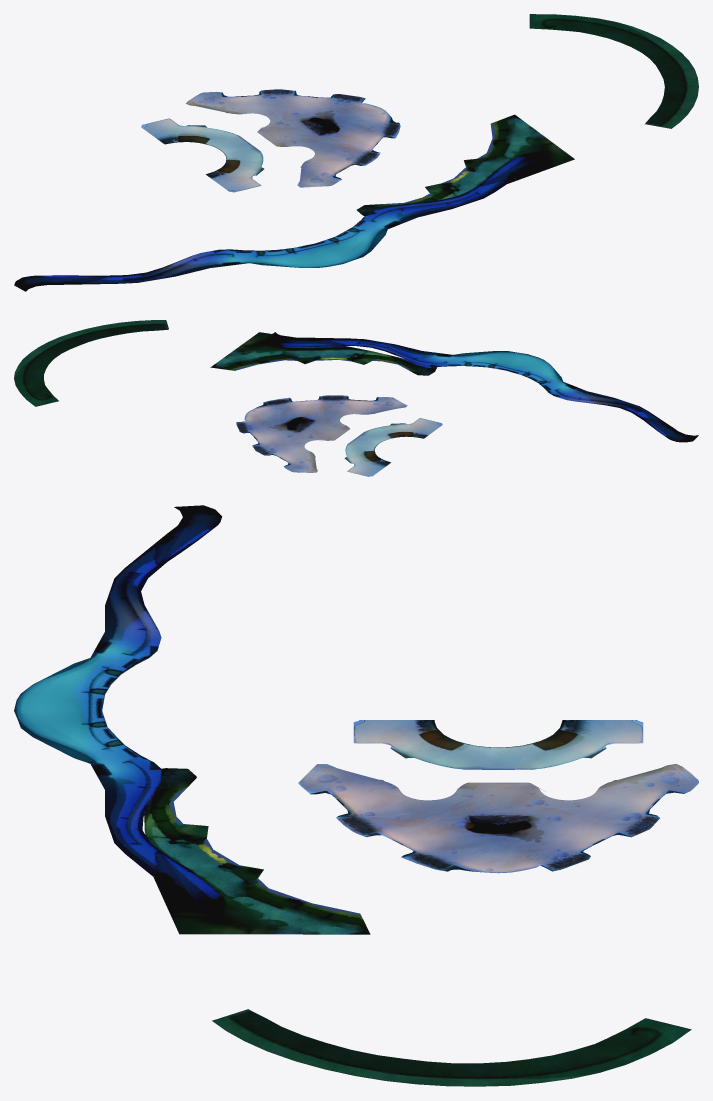
The model's file is pref_sm_beach_techsmall_WSJ_001_bk_inner_L_lv2.fbx.
3 renders of one model, top to bottom at view 1: azimuth 30°, elevation 25°; view 2: azimuth 150°, elevation 25°; view 3: azimuth 270°, elevation 25°, orthographic. The views are drawn at different scales.
Visible parts, largest first — view 1: pref_sm_beach_techsmall_WSJ_001_bk_inner_L_lv2; view 2: pref_sm_beach_techsmall_WSJ_001_bk_inner_L_lv2; view 3: pref_sm_beach_techsmall_WSJ_001_bk_inner_L_lv2.
Boxes of the visible parts, x1,y1,x2,y2 form: pref_sm_beach_techsmall_WSJ_001_bk_inner_L_lv2: (14, 14, 698, 291); pref_sm_beach_techsmall_WSJ_001_bk_inner_L_lv2: (14, 320, 698, 476); pref_sm_beach_techsmall_WSJ_001_bk_inner_L_lv2: (14, 505, 698, 1086).
Bounding box in the file's own units: 140 × 1.35 × 70.93.
